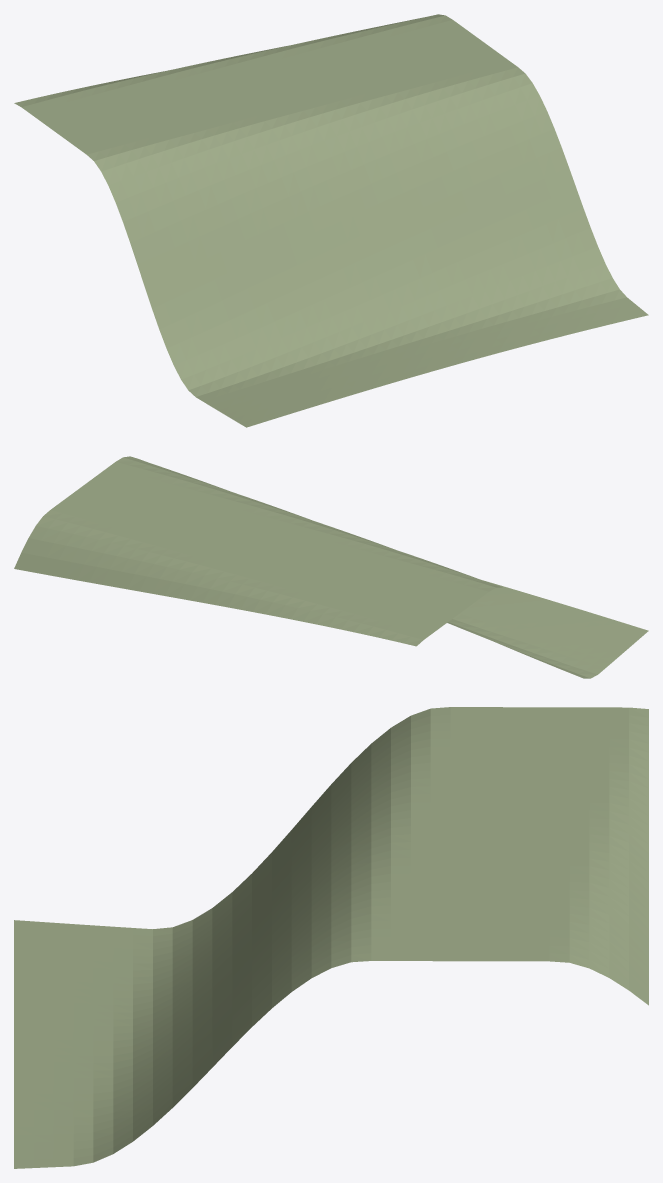
The model's file is alpine-5-11.glb.
3 renders of one model, top to bottom at view 1: azimuth 30°, elevation 25°; view 2: azimuth 150°, elevation 25°; view 3: azimuth 270°, elevation 25°, orthographic. The views are drawn at different scales.
Parts seen in each view (by area): view 1: alpine-5-11; view 2: alpine-5-11; view 3: alpine-5-11.
Part boxes in pixels (box(x1,y1,x2,y2)): alpine-5-11: box(14, 14, 648, 427); alpine-5-11: box(14, 456, 648, 678); alpine-5-11: box(14, 707, 648, 1168).
Size of the model in its own units: 256 by 105 by 256.
